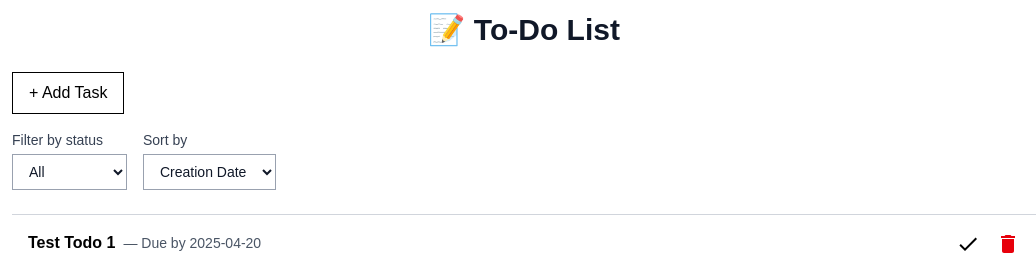
Test: Home Page › deletes a task
The image size is (1036, 272).
Expected: the text "Test Todo 1" is shown, [28, 234, 115, 251]
Click the button with test id "deleteBtn-1": (1008, 243) [996, 231, 1020, 256]
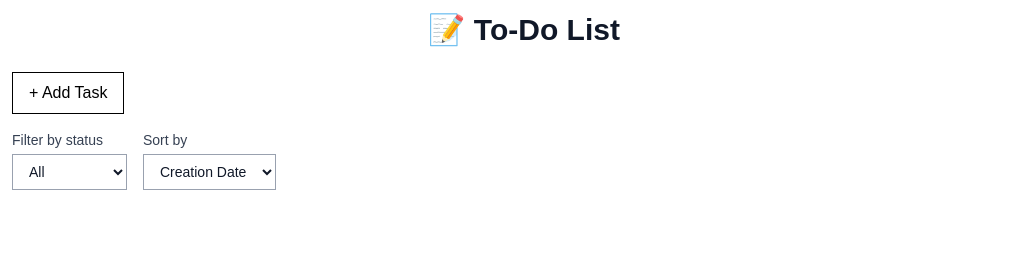
Expected: the link "Test Todo 1" is gone
